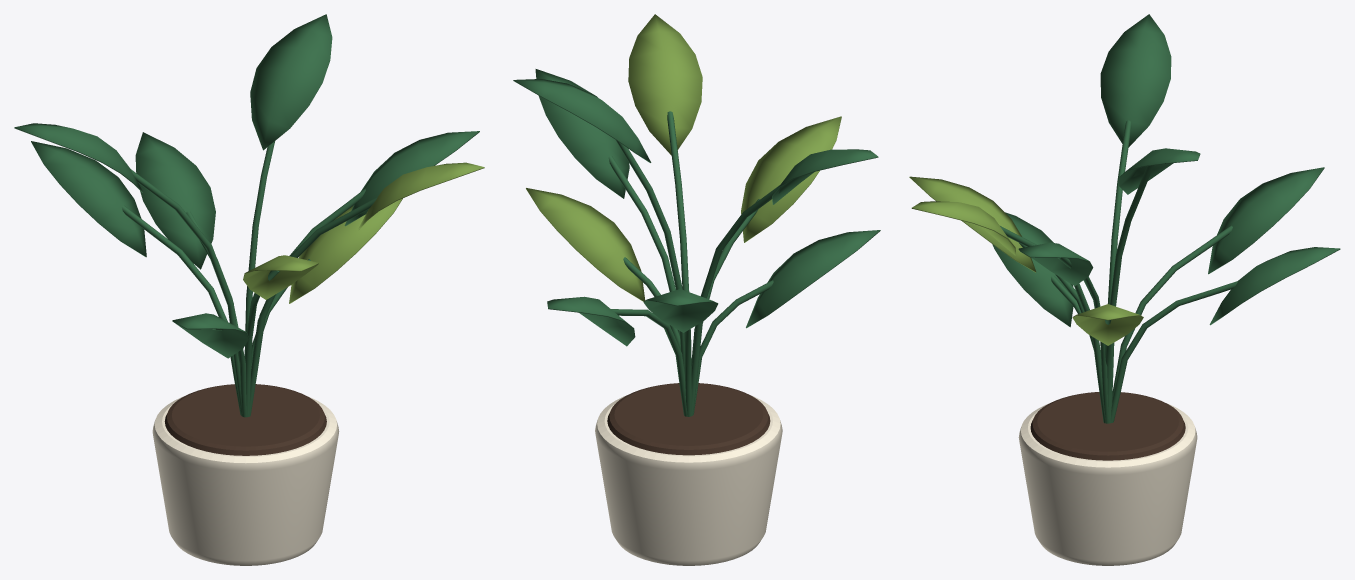
File: plant.glb
3 views of the same model, side by side, from view 1: azimuth 30°, elevation 25°; view 2: azimuth 150°, elevation 25°; view 3: azimuth 270°, elevation 25° (orthographic). The views are drawn at different scales.
Visible parts, largest first — view 1: Shared table plant pot, Shared table plant soil, Shared table plant leaf.005, Shared table plant leaf.002, Shared table plant leaf.007, Shared table plant leaf, Shared table plant leaf.008, Shared table plant leaf.004, Shared table plant leaf.003, Shared table plant leaf.001, Shared table plant leaf.006, Shared table plant stem.004 (+4 smaller); view 2: Shared table plant pot, Shared table plant soil, Shared table plant leaf.003, Shared table plant leaf, Shared table plant leaf.006, Shared table plant leaf.001, Shared table plant leaf.008, Shared table plant leaf.005, Shared table plant leaf.007, Shared table plant leaf.002, Shared table plant leaf.004, Shared table plant stem.004 (+8 smaller); view 3: Shared table plant pot, Shared table plant soil, Shared table plant leaf.004, Shared table plant leaf.007, Shared table plant leaf.001, Shared table plant leaf.002, Shared table plant leaf.006, Shared table plant leaf, Shared table plant leaf.008, Shared table plant leaf.003, Shared table plant leaf.005, Shared table plant stem.002 (+5 smaller).
Boxes of the visible parts, left/top/right/bottom form: Shared table plant pot: left=152, top=396, right=339, bottom=565; Shared table plant soil: left=164, top=384, right=326, bottom=455; Shared table plant leaf.005: left=250, top=14, right=332, bottom=150; Shared table plant leaf.002: left=135, top=132, right=215, bottom=269; Shared table plant leaf.007: left=31, top=141, right=146, bottom=257; Shared table plant leaf: left=289, top=198, right=402, bottom=303; Shared table plant leaf.008: left=344, top=131, right=479, bottom=226; Shared table plant leaf.004: left=14, top=123, right=143, bottom=192; Shared table plant leaf.003: left=358, top=162, right=484, bottom=230; Shared table plant leaf.001: left=172, top=313, right=249, bottom=358; Shared table plant leaf.006: left=243, top=255, right=318, bottom=299; Shared table plant stem.004: left=130, top=169, right=242, bottom=415; Shared table plant pot: left=595, top=395, right=782, bottom=565; Shared table plant soil: left=607, top=383, right=770, bottom=455; Shared table plant leaf.003: left=628, top=14, right=702, bottom=155; Shared table plant leaf: left=526, top=188, right=645, bottom=301; Shared table plant leaf.006: left=741, top=116, right=841, bottom=242; Shared table plant leaf.001: left=746, top=230, right=880, bottom=328; Shared table plant leaf.008: left=535, top=69, right=629, bottom=198; Shared table plant leaf.005: left=513, top=79, right=651, bottom=162; Shared table plant leaf.007: left=643, top=289, right=718, bottom=332; Shared table plant leaf.002: left=547, top=296, right=635, bottom=346; Shared table plant leaf.004: left=772, top=149, right=878, bottom=204; Shared table plant stem.004: left=691, top=176, right=802, bottom=415; Shared table plant pot: left=1018, top=404, right=1197, bottom=565; Shared table plant soil: left=1030, top=392, right=1185, bottom=460; Shared table plant leaf.004: left=1100, top=14, right=1171, bottom=147; Shared table plant leaf.007: left=1208, top=167, right=1324, bottom=274; Shared table plant leaf.001: left=992, top=212, right=1073, bottom=327; Shared table plant leaf.002: left=1209, top=247, right=1340, bottom=325; Shared table plant leaf.006: left=909, top=176, right=1036, bottom=272; Shared table plant leaf: left=1072, top=304, right=1143, bottom=345; Shared table plant leaf.008: left=1018, top=242, right=1093, bottom=285; Shared table plant leaf.003: left=911, top=201, right=1015, bottom=255; Shared table plant leaf.005: left=1118, top=148, right=1200, bottom=194; Shared table plant stem.002: left=1110, top=281, right=1237, bottom=422.
Size of the model in its own units: 0.8333 by 0.9054 by 0.8056.
